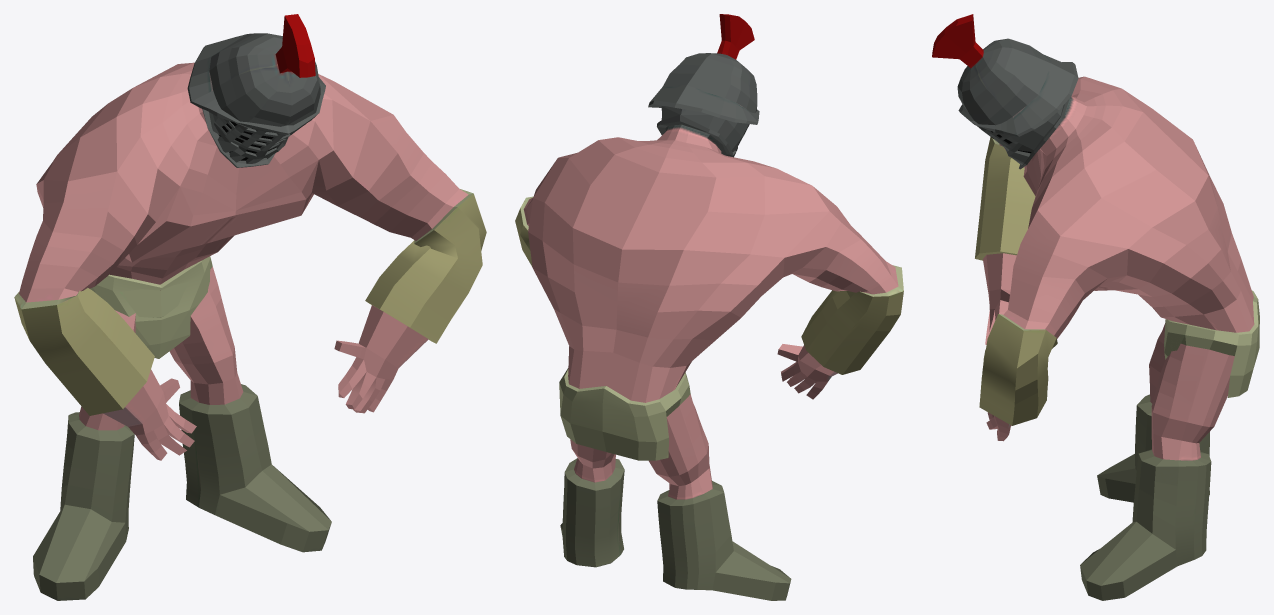
Rendered from GladiatorCelebracion_000495.obj.
3 renders of one model, left to right at view 1: azimuth 30°, elevation 25°; view 2: azimuth 150°, elevation 25°; view 3: azimuth 270°, elevation 25°, orthographic. The views are drawn at different scales.
Visible parts, largest first — view 1: Gadiador_Gladiador_H; view 2: Gadiador_Gladiador_H; view 3: Gadiador_Gladiador_H.
Boxes of the visible parts, x1=… form: Gadiador_Gladiador_H: x1=14, y1=14, x2=486, y2=600; Gadiador_Gladiador_H: x1=515, y1=14, x2=903, y2=600; Gadiador_Gladiador_H: x1=932, y1=14, x2=1259, y2=600.
Size of the model in its own units: 5.13 by 6.44 by 3.56.
1 material, 1 textured.
